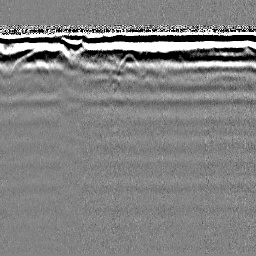cavity: (116, 51, 140, 74)
